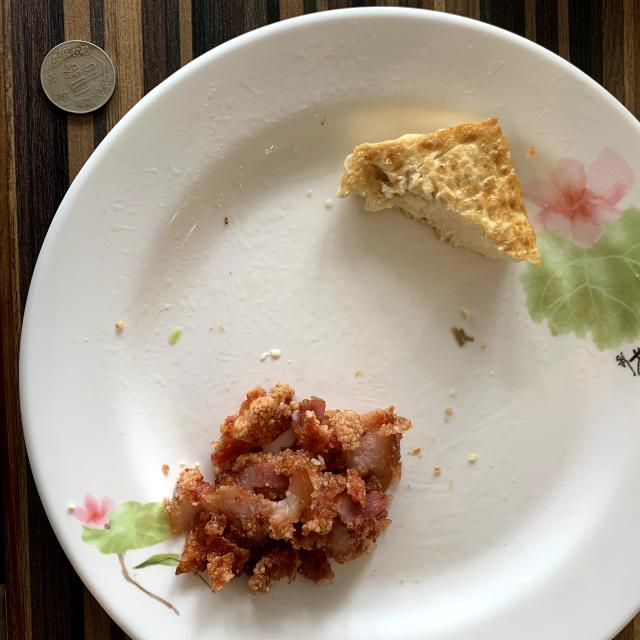coin: (40, 40, 115, 114)
red grilled pork: (165, 382, 411, 595)
